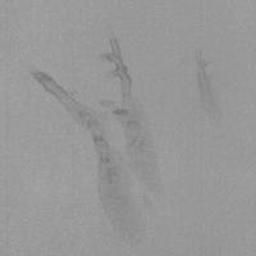Water spot: (26, 29, 169, 248), (192, 46, 224, 134)
